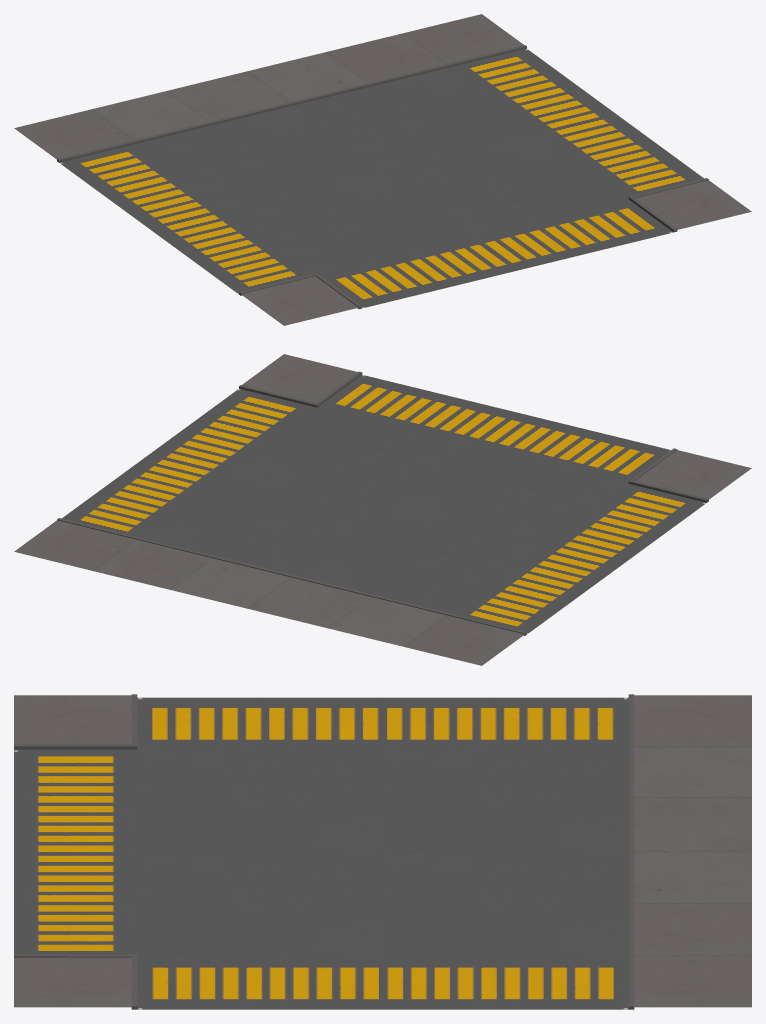
File: SM_Floor_Road_17.fbx
3 views of the same model, one above another, from view 1: azimuth 30°, elevation 25°; view 2: azimuth 150°, elevation 25°; view 3: azimuth 270°, elevation 25° (orthographic). The views are drawn at different scales.
Visible parts, largest first — view 1: SM_Floor_Road_17; view 2: SM_Floor_Road_17; view 3: SM_Floor_Road_17.
Boxes of the visible parts, x1=… form: SM_Floor_Road_17: x1=14, y1=14, x2=751, y2=325; SM_Floor_Road_17: x1=14, y1=354, x2=751, y2=665; SM_Floor_Road_17: x1=14, y1=694, x2=751, y2=1009.
Bounding box in the file's own units: 15 × 0.075 × 15.
